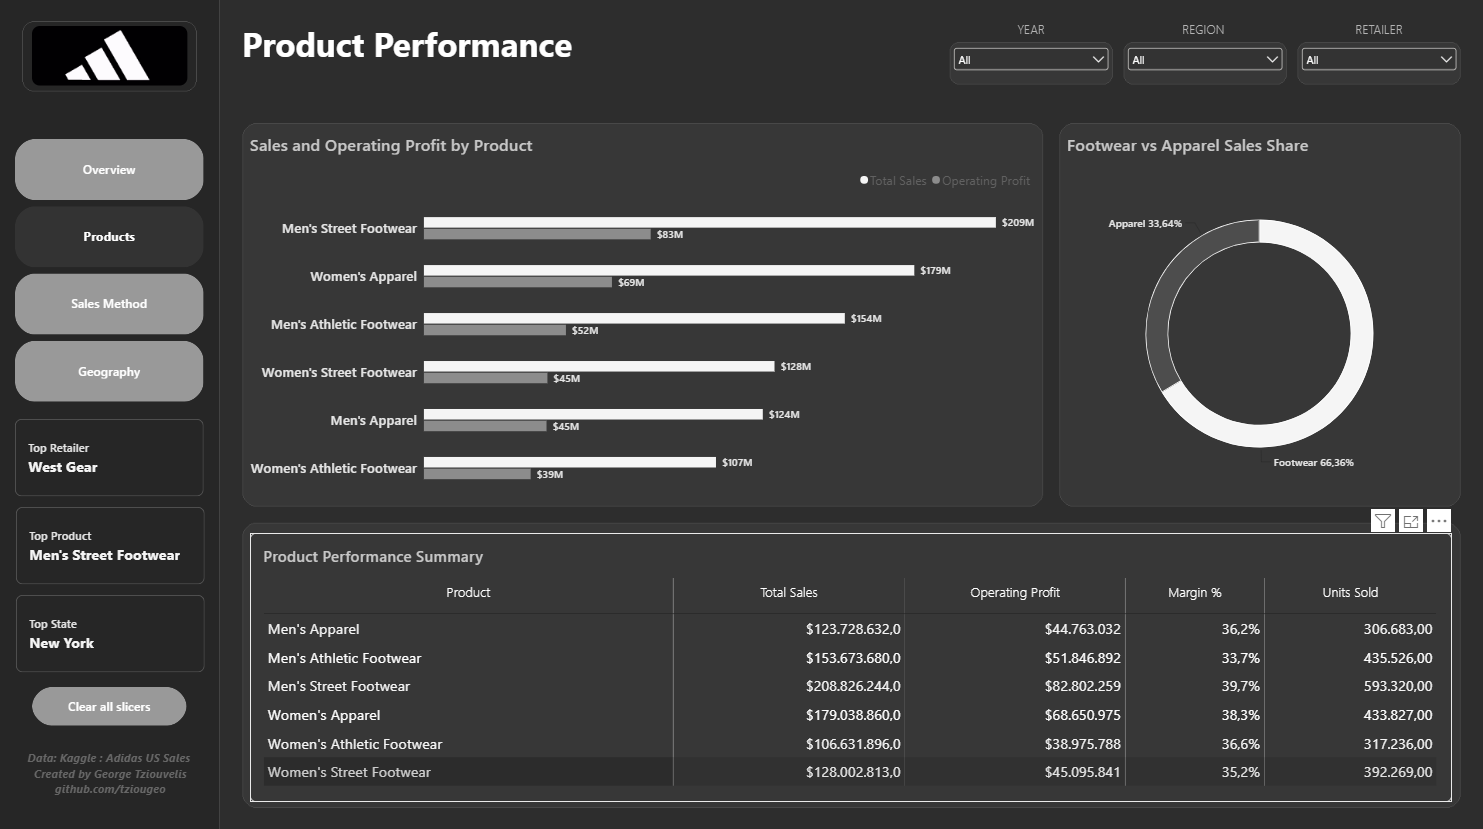

The page's visual inventory and layout, read from the dashboard file:
{"tool":"powerbi","page":{"name":"Products","canvas":[1920,1080],"ordinal":1},"visuals":[{"type":"image","box":[42.3,36.5,201.3,77.3],"z":0},{"type":"donutChart","title":"Footwear vs Apparel Sales Share","fields":{"Category":["Data Sales Adidas.Product Type"],"Y":["Measuress.Total Sales"]},"box":[1382,175,498,475],"z":1000},{"type":"tableEx","title":"Product Performance Summary","fields":{"Values":["Data Sales Adidas.Product","Measuress.Total Sales","Measuress.Operating Profit","Measuress.Margin %","Measuress.Units Sold"]},"box":[325,692,1555,348],"z":2000},{"type":"clusteredBarChart","title":"Sales and Operating Profit by Product","fields":{"Category":["Data Sales Adidas.Product"],"Y":["Measuress.Total Sales","Measuress.Operating Profit"]},"box":[325,175,1015,475],"z":3000},{"type":"slicer","title":"YEAR","fields":{"Values":["Date.Year"]},"box":[1230,60,210,54],"z":4000},{"type":"slicer","title":"YEAR","fields":{"Values":["Data Sales Adidas.Region"]},"box":[1455,60,210,54],"z":5000},{"type":"slicer","title":"YEAR","fields":{"Values":["Data Sales Adidas.Retailer"]},"box":[1680,60,210,54],"z":6000},{"type":"textbox","box":[1230,30,210,28],"z":7000},{"type":"textbox","box":[1455,30,210,28],"z":8000},{"type":"textbox","box":[1680,30,210,28],"z":9000},{"type":"textbox","box":[315,30.2,840.7,73.3],"z":10000},{"type":"pageNavigator","box":[21,183,244.3,343.2],"z":11000},{"type":"textbox","box":[21.6,972.9,244.3,80.5],"z":12000},{"type":"actionButton","box":[43.1,891,200,50],"z":13000},{"type":"cardVisual","fields":{"Data":["Measuress.Top Retailer"]},"box":[21,545,244,100],"z":13001},{"type":"cardVisual","fields":{"Data":["Measuress.Top Product"]},"box":[22,659,244,100],"z":13002},{"type":"cardVisual","fields":{"Data":["Measuress.Top State"]},"box":[22,773,244.5,100],"z":13003}]}

Visuals, with their boxes in screenshot pixels (x1, y1, x2, y2), scaled from the page's 1920x1080 canvas onto the 1483x829 screenshot:
image: left=33, top=28, right=188, bottom=87
"Footwear vs Apparel Sales Share" donutChart: left=1067, top=134, right=1452, bottom=499
"Product Performance Summary" tableEx: left=251, top=531, right=1452, bottom=798
"Sales and Operating Profit by Product" clusteredBarChart: left=251, top=134, right=1035, bottom=499
"YEAR" slicer: left=950, top=46, right=1112, bottom=88
"YEAR" slicer: left=1124, top=46, right=1286, bottom=88
"YEAR" slicer: left=1298, top=46, right=1460, bottom=88
textbox: left=950, top=23, right=1112, bottom=45
textbox: left=1124, top=23, right=1286, bottom=45
textbox: left=1298, top=23, right=1460, bottom=45
textbox: left=243, top=23, right=893, bottom=79
pageNavigator: left=16, top=140, right=205, bottom=404
textbox: left=17, top=747, right=205, bottom=809
actionButton: left=33, top=684, right=188, bottom=722
cardVisual - Measuress.Top Retailer: left=16, top=418, right=205, bottom=495
cardVisual - Measuress.Top Product: left=17, top=506, right=205, bottom=583
cardVisual - Measuress.Top State: left=17, top=593, right=206, bottom=670
